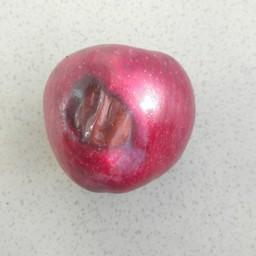Bad_apple: (39, 38, 197, 201)
